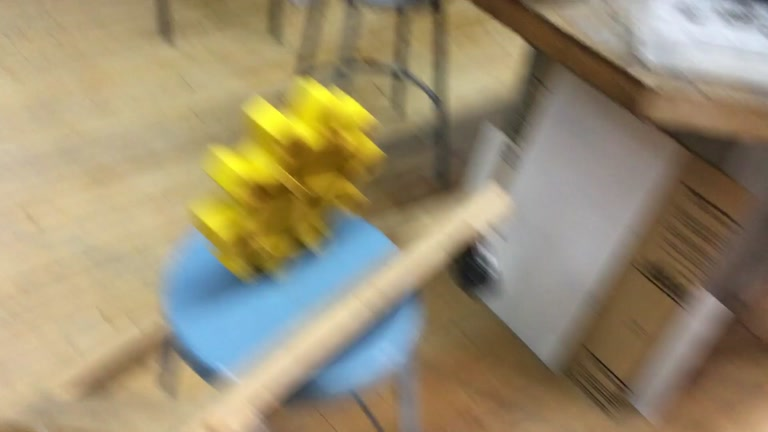gear: (189, 71, 386, 283)
